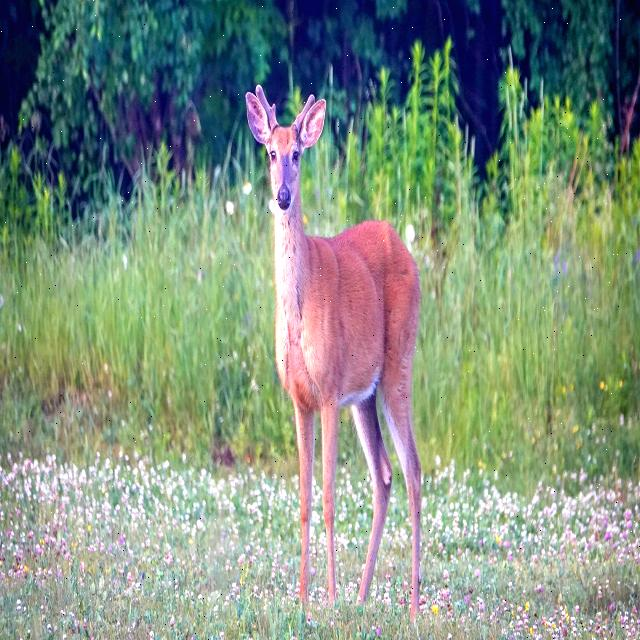deer: (243, 77, 342, 233)
